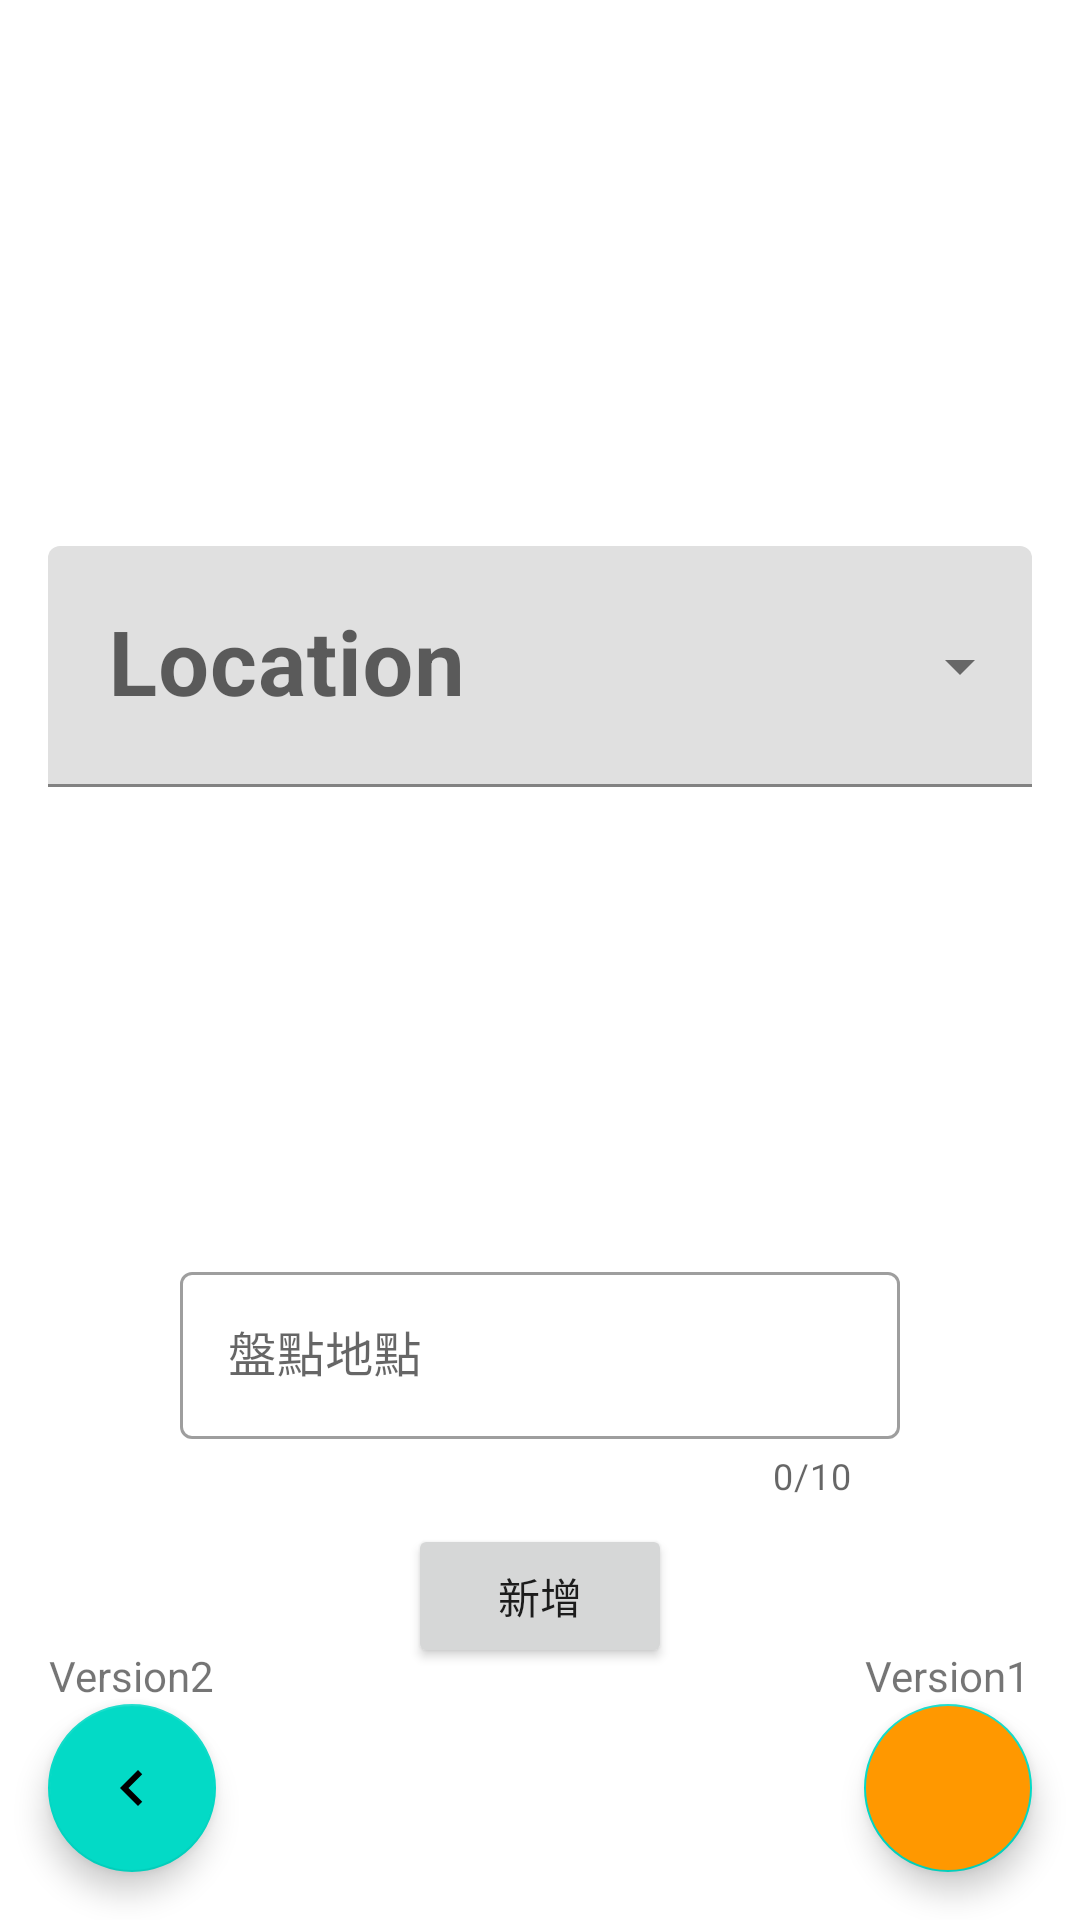

Point at icon controls on the screen. Image size 1080x1920, points as [x,y].
navigate before: [132,1788]
